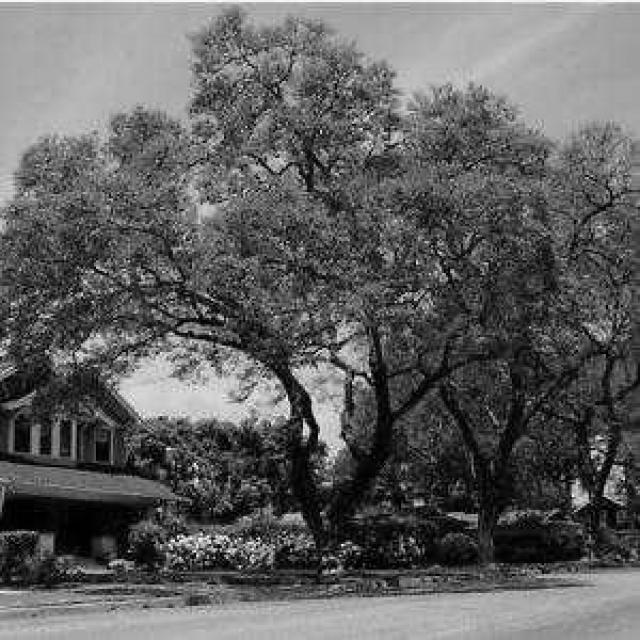Tree: (0, 13, 626, 548)
